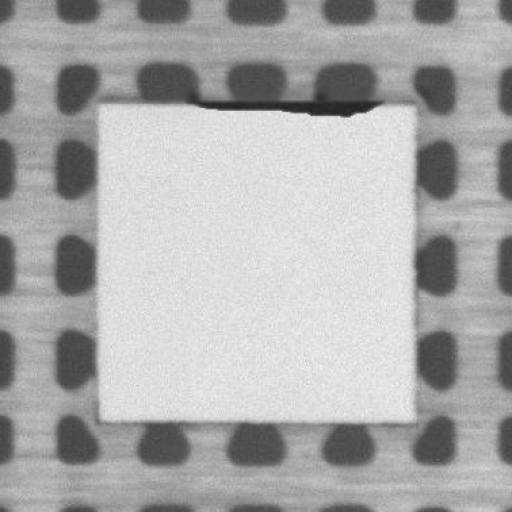DIE_BROKEN: (182, 96, 384, 116)
